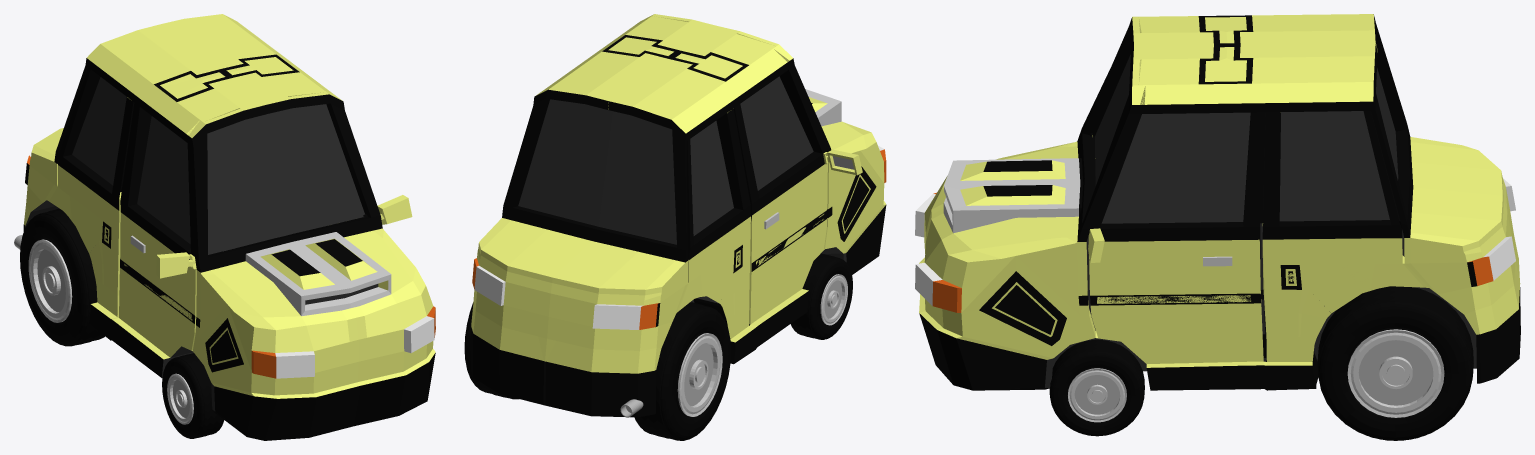
3 views of the same model, side by side, from view 1: azimuth 30°, elevation 25°; view 2: azimuth 150°, elevation 25°; view 3: azimuth 270°, elevation 25° (orthographic). The views are drawn at different scales.
Visible parts, largest first — view 1: BODY26A, WHEEL.002, WHEEL.001; view 2: BODY26A, WHEEL.002, WHEEL.001, WHEEL.004; view 3: BODY26A, WHEEL.004, WHEEL.003.
Boxes of the visible parts, bbox=[...] form: BODY26A: bbox=[23, 14, 435, 440]; WHEEL.002: bbox=[20, 208, 104, 346]; WHEEL.001: bbox=[162, 353, 224, 438]; BODY26A: bbox=[471, 14, 886, 417]; WHEEL.002: bbox=[634, 302, 731, 440]; WHEEL.001: bbox=[791, 253, 852, 339]; WHEEL.004: bbox=[464, 302, 519, 399]; BODY26A: bbox=[915, 14, 1520, 390]; WHEEL.004: bbox=[1317, 286, 1473, 440]; WHEEL.003: bbox=[1049, 339, 1144, 436].
Bounding box in the file's own units: 136 × 155 × 248.
